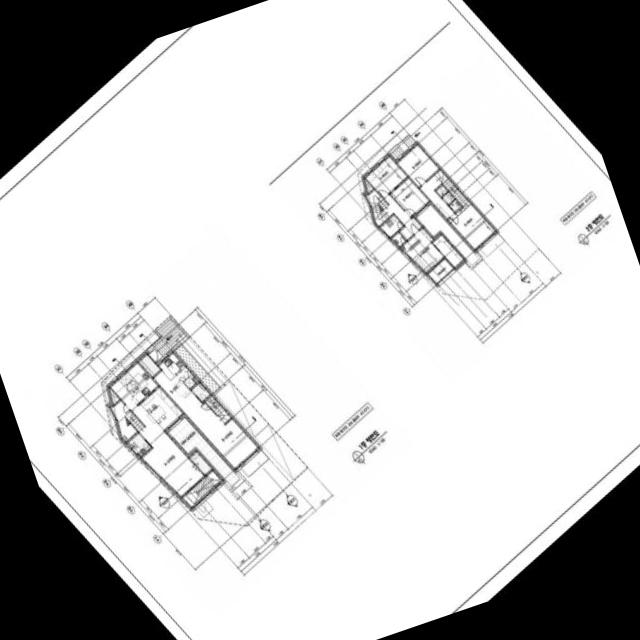background: (0, 0, 640, 640)
space_balconi: (427, 257, 453, 282)
space_bedroom: (448, 201, 494, 248), (400, 227, 443, 271), (396, 144, 438, 186), (365, 156, 406, 197), (390, 177, 428, 216)
space_front: (138, 354, 160, 376)
space_kitchen: (132, 386, 182, 437), (110, 362, 157, 411), (158, 352, 195, 394)
space_living_room: (153, 370, 257, 467), (139, 426, 203, 495)
space_other: (165, 414, 236, 481), (413, 201, 475, 260), (383, 194, 421, 239), (419, 174, 453, 218), (110, 400, 136, 441), (432, 234, 462, 266), (189, 451, 211, 474), (109, 387, 119, 403), (364, 178, 373, 192), (124, 410, 132, 421), (124, 416, 130, 425), (377, 202, 383, 211), (193, 377, 197, 382)
space_staircase: (182, 469, 221, 506), (434, 169, 468, 206), (365, 189, 389, 225), (204, 395, 230, 423), (129, 413, 144, 431)
space_toilet: (126, 432, 150, 455), (380, 214, 403, 236), (191, 382, 209, 400), (391, 232, 405, 245), (435, 184, 447, 196), (442, 191, 454, 203), (449, 199, 460, 210)
